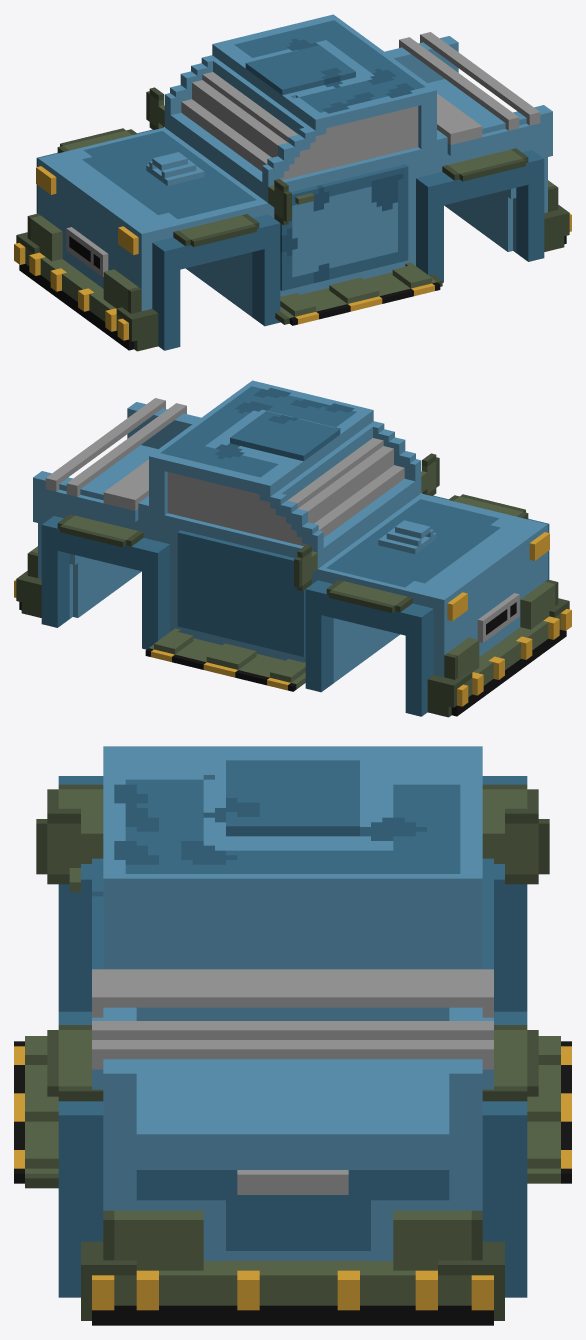
Rendered from Car_Body_1_01.FBX.
3 views of the same model, one above another, from view 1: azimuth 30°, elevation 25°; view 2: azimuth 150°, elevation 25°; view 3: azimuth 270°, elevation 25° (orthographic). The views are drawn at different scales.
Visible parts, largest first — view 1: Car_Body_1_01; view 2: Car_Body_1_01; view 3: Car_Body_1_01.
Boxes of the visible parts, <box> form: Car_Body_1_01: <box>14,14,571,351</box>; Car_Body_1_01: <box>14,380,571,717</box>; Car_Body_1_01: <box>14,746,571,1325</box>.
Bounding box in the file's own units: 0.85 × 0.5 × 0.34.
